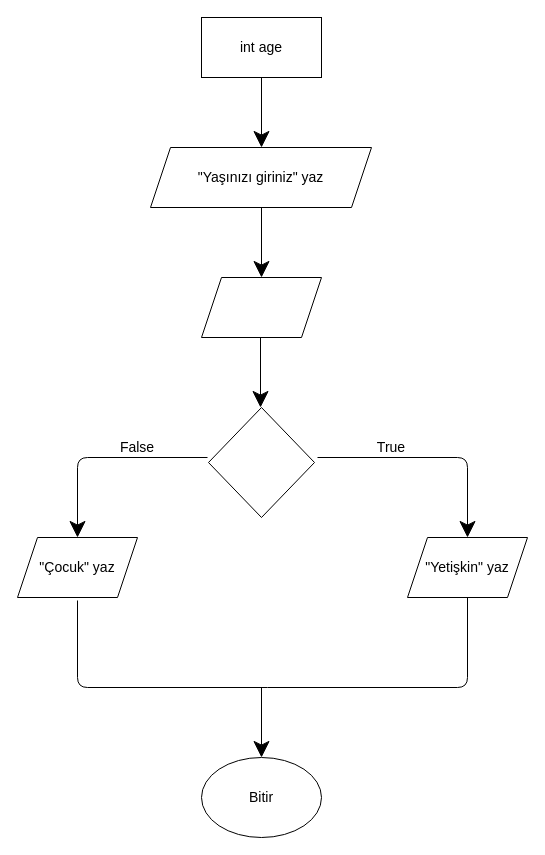
The diagram is 545 pixels wide and 855 high, and some of its shapes have lost their labels. Here are the shapes that lost their labels. From the top down, the centre of each, then its label:
(261,307): Girdi al "age"
(261,462): age >= 21
